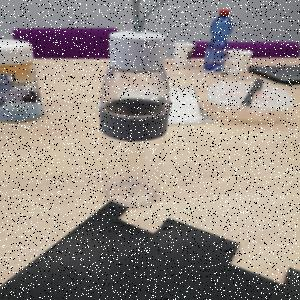Cup: (227, 51, 255, 79), (173, 43, 197, 69)
Plastic-bottle: (99, 32, 174, 210), (204, 10, 235, 75)
